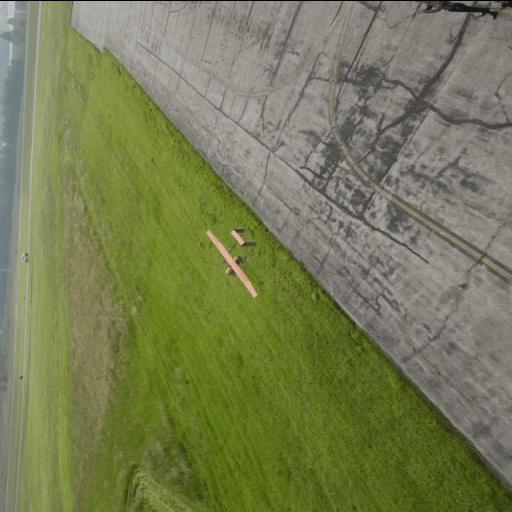uav: (198, 220, 280, 312)
